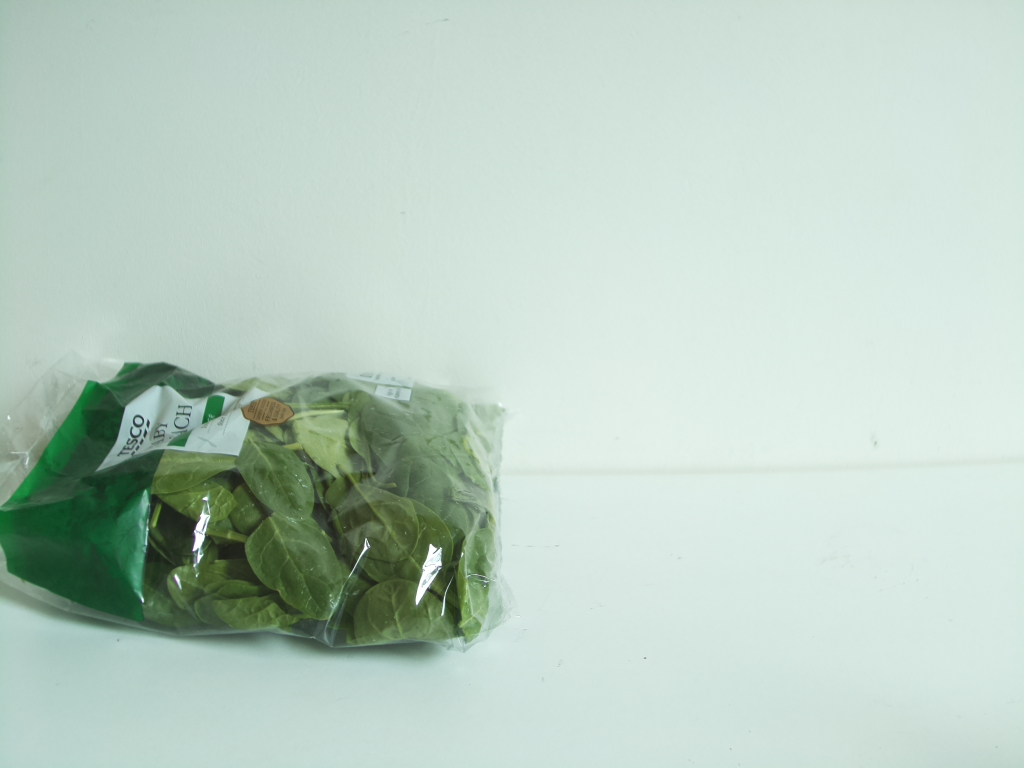salad: (1, 352, 519, 659)
